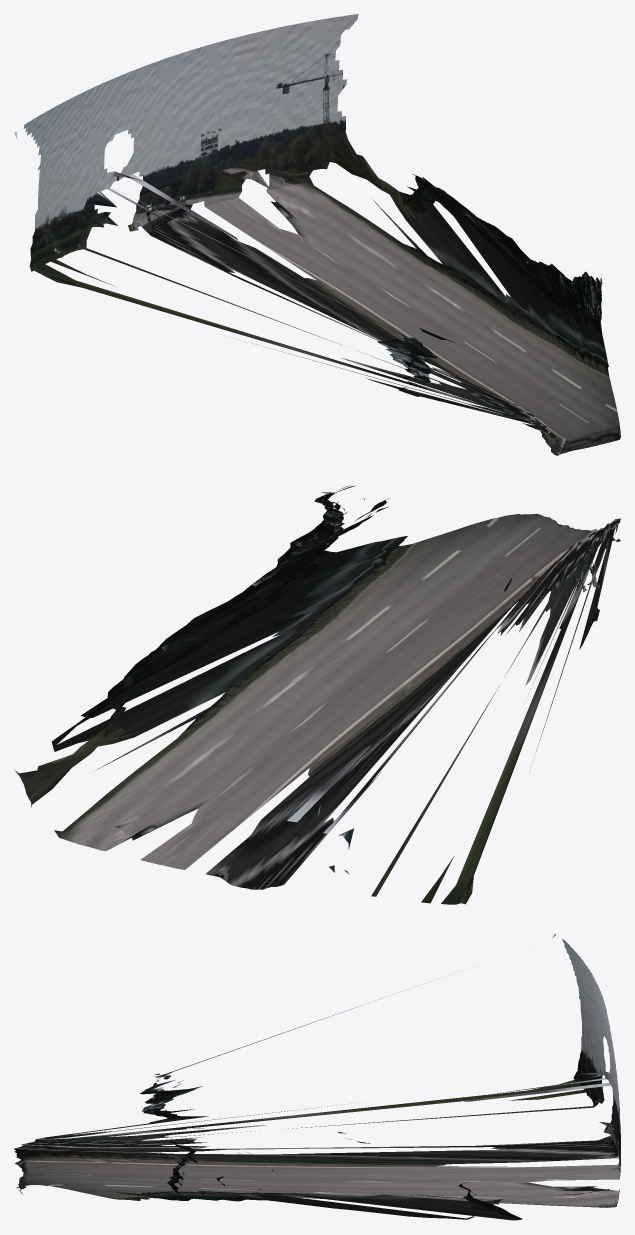
The picture shows the model from 3 angles, top to bottom: view 1: azimuth 30°, elevation 25°; view 2: azimuth 150°, elevation 25°; view 3: azimuth 270°, elevation 25°; orthographic projection. The views are drawn at different scales.
Visible parts, largest first — view 1: defaultobject; view 2: defaultobject; view 3: defaultobject.
Part boxes in pixels (x1,y1,x2,y2): defaultobject: (14,14,620,455); defaultobject: (14,485,620,904); defaultobject: (14,934,620,1220).
Bounding box in the file's own units: 28.86 × 12.07 × 44.56.
Materials: 1 (1 with a texture image).
